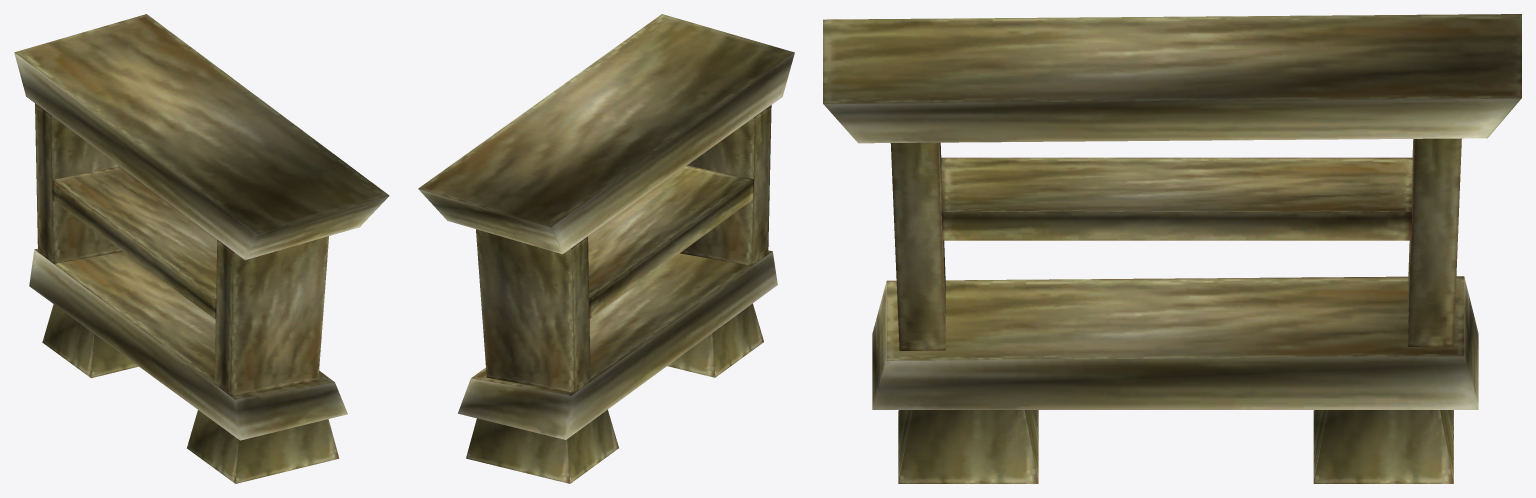
The model's file is duskwoodbookshelf02.obj.
3 views of the same model, side by side, from view 1: azimuth 30°, elevation 25°; view 2: azimuth 150°, elevation 25°; view 3: azimuth 270°, elevation 25° (orthographic). The views are drawn at different scales.
Visible parts, largest first — view 1: duskwoodbookshelf02.m2; view 2: duskwoodbookshelf02.m2; view 3: duskwoodbookshelf02.m2.
Part boxes in pixels (x1,y1,x2,y2): duskwoodbookshelf02.m2: (14, 14, 389, 483); duskwoodbookshelf02.m2: (418, 14, 794, 483); duskwoodbookshelf02.m2: (823, 14, 1521, 483).
Size of the model in its own units: 0.883 by 1.78 by 2.81.
Materials: 1 (1 with a texture image).
